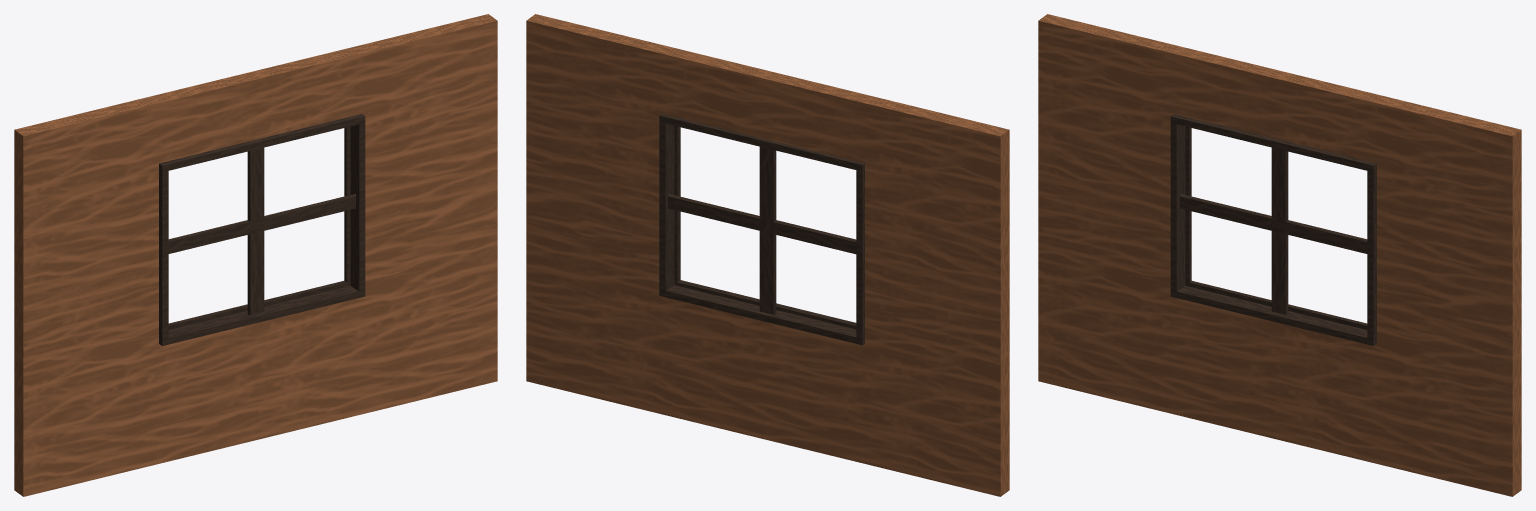
Rendered from BasicWindow.fbx.
3 views of the same model, side by side, from view 1: azimuth 30°, elevation 25°; view 2: azimuth 150°, elevation 25°; view 3: azimuth 330°, elevation 25° (orthographic).
Visible parts, largest first — view 1: BasicWindow; view 2: BasicWindow; view 3: BasicWindow.
Part boxes in pixels (x1,y1,x2,y2): BasicWindow: (14,14,497,496); BasicWindow: (526,14,1009,496); BasicWindow: (1038,14,1521,496).
Size of the model in its own units: 330 by 240 by 17.88.
